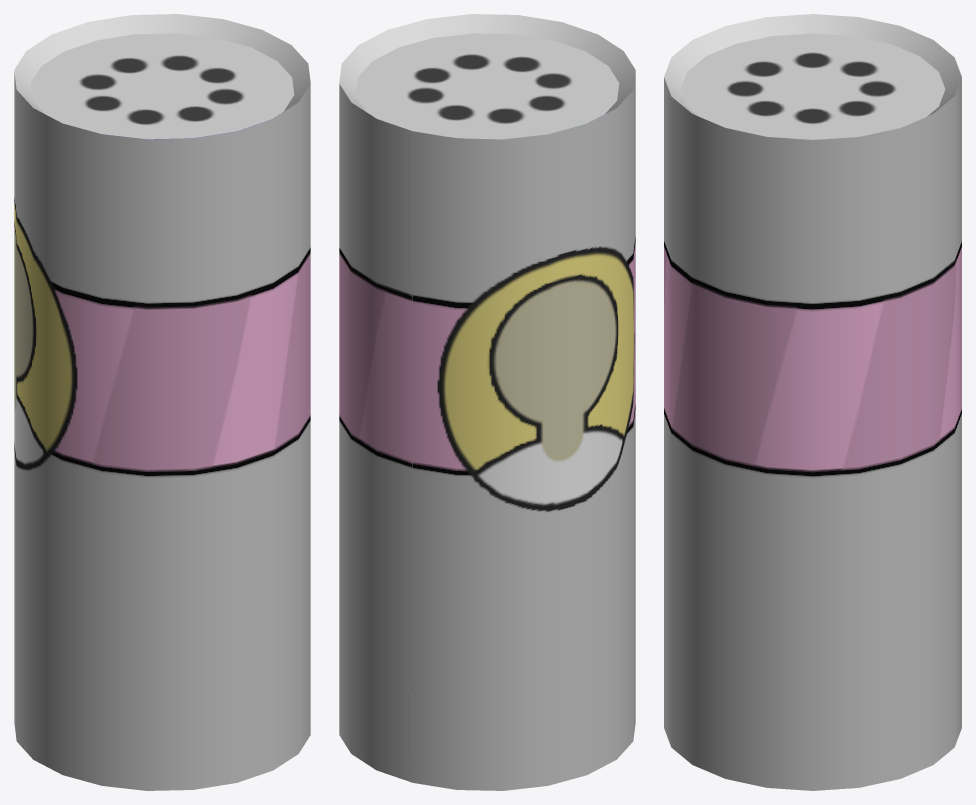
The model's file is CleaningShaker.fbx.
The picture shows the model from 3 angles, left to right: view 1: azimuth 30°, elevation 25°; view 2: azimuth 150°, elevation 25°; view 3: azimuth 270°, elevation 25°; orthographic projection.
Visible parts, largest first — view 1: pCylinder1; view 2: pCylinder1; view 3: pCylinder1.
Boxes of the visible parts, x1,y1,x2,y2 form: pCylinder1: [14, 14, 310, 790]; pCylinder1: [339, 14, 635, 790]; pCylinder1: [664, 14, 961, 790].
Bounding box in the file's own units: 34.61 × 83.44 × 34.61.
1 material, 1 textured.
